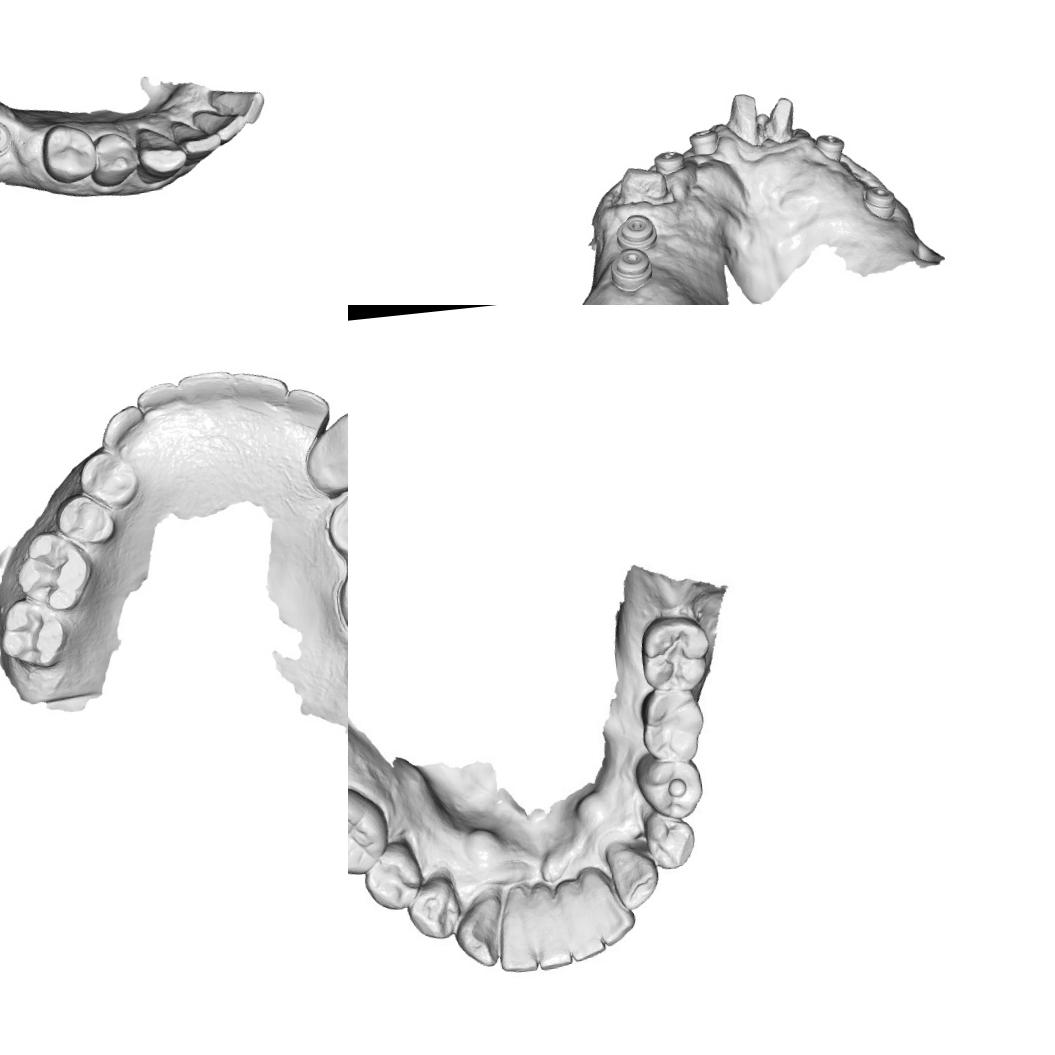canine: (452, 888, 508, 971), (298, 409, 348, 497), (608, 838, 662, 906), (134, 122, 190, 186), (96, 403, 151, 451)
crown: (720, 88, 764, 151), (759, 94, 801, 148)
implant: (604, 243, 657, 296), (856, 177, 905, 226), (611, 208, 660, 255), (684, 124, 722, 162), (812, 128, 848, 166), (650, 148, 688, 179)
implant_minus: (0, 117, 15, 162)
incisor: (491, 881, 544, 973), (580, 864, 640, 944), (526, 878, 574, 970), (558, 874, 606, 960), (208, 81, 268, 127), (172, 369, 233, 411), (287, 382, 333, 437), (230, 367, 283, 414), (192, 106, 248, 148), (135, 379, 182, 426), (173, 125, 224, 168)
molar: (13, 528, 95, 616), (0, 593, 70, 676), (638, 618, 708, 695), (640, 685, 708, 761), (348, 793, 387, 876)
premolar: (640, 752, 706, 819), (52, 486, 118, 552), (358, 844, 426, 908), (76, 444, 138, 510), (38, 122, 99, 186), (407, 874, 465, 940), (642, 802, 698, 870), (88, 130, 142, 189), (322, 480, 348, 561)
